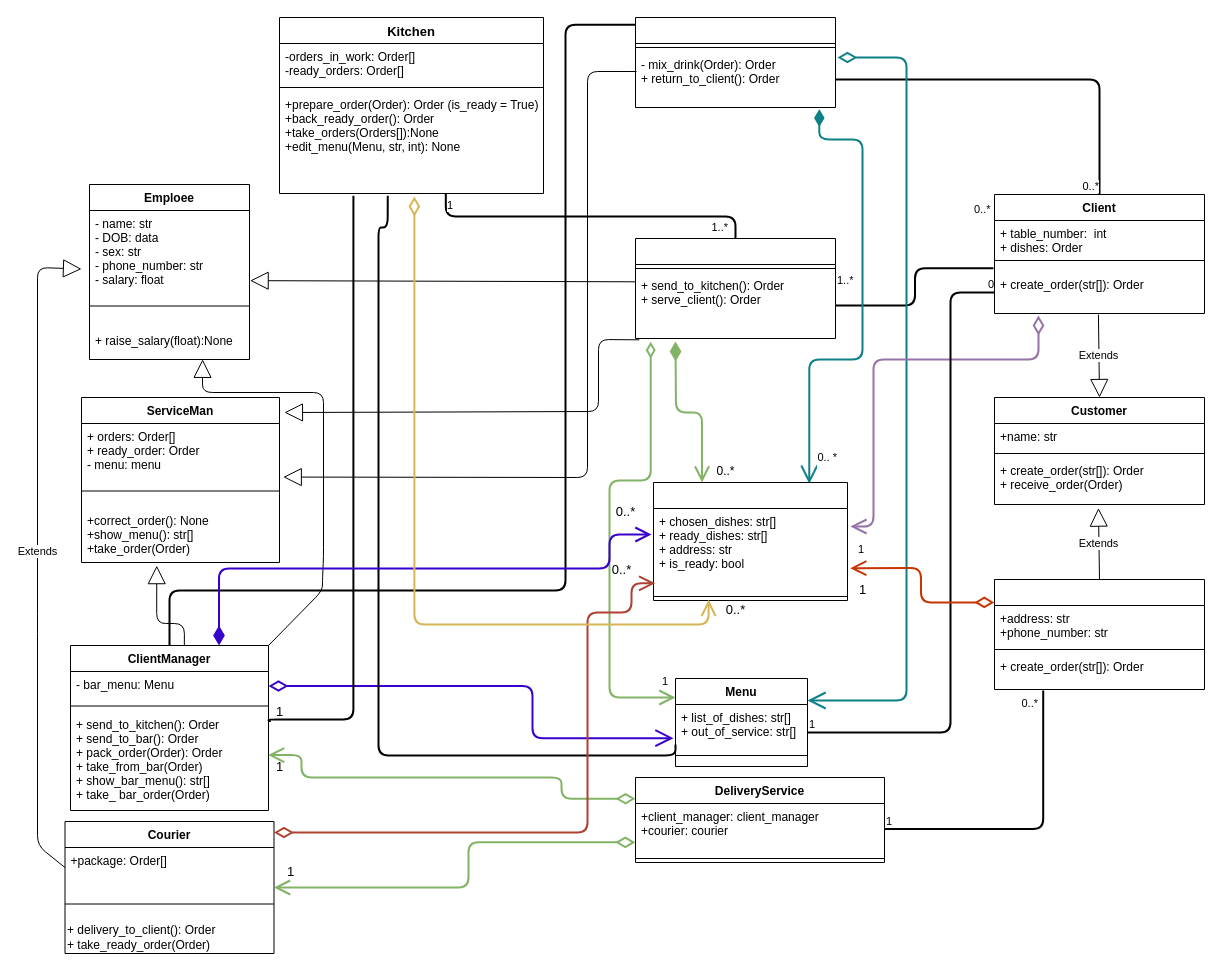
The diagram is 1222 pixels wide and 971 high, and some of its shapes have lost their labels. Each missing label, with the box of its shape:
Batender: (634, 16, 836, 108)
DistantClient: (994, 578, 1204, 690)
Order: (652, 482, 848, 600)
Waiter: (634, 238, 836, 338)
